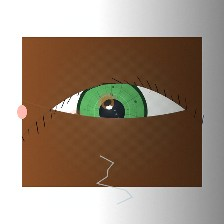foreign_body_visible: (66, 110, 86, 125)
